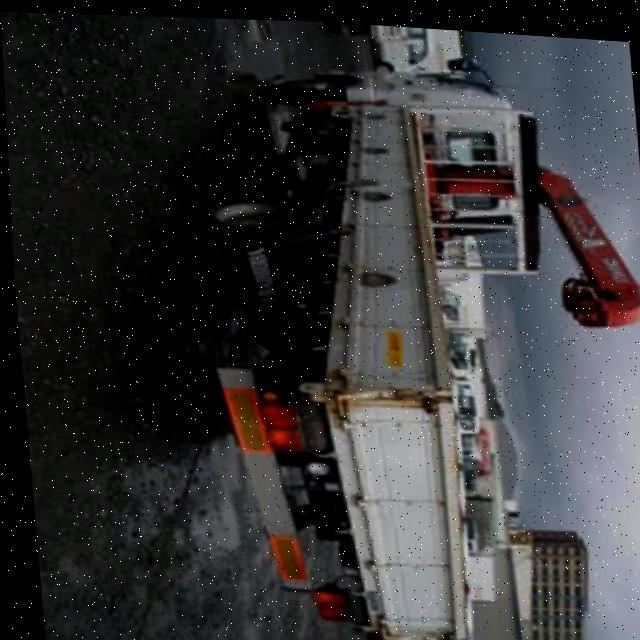truck: (173, 29, 640, 640)
